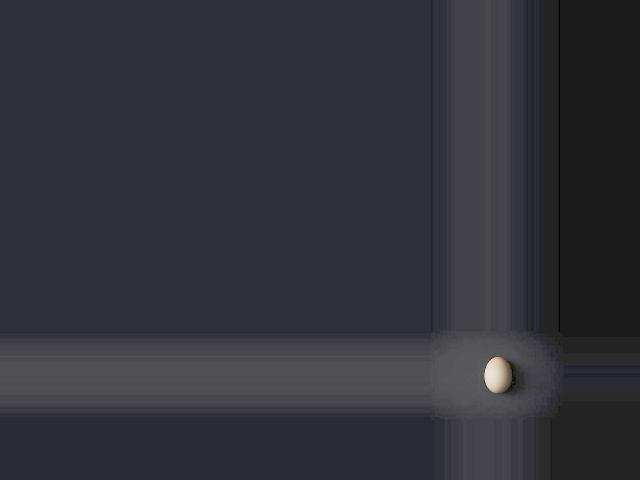egg: (483, 356, 510, 394)
